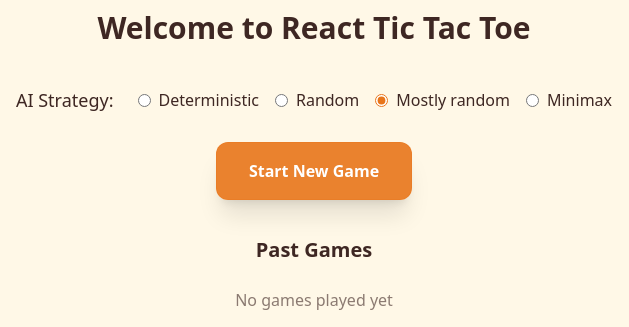
Test case: App › allows switching to deterministic strategy via radio
The width and height of the screenshot is (629, 327).
Click the radio button with test id "strategy-deterministic". click: (144, 100)
box: x1=138 y1=94 x2=150 y2=106
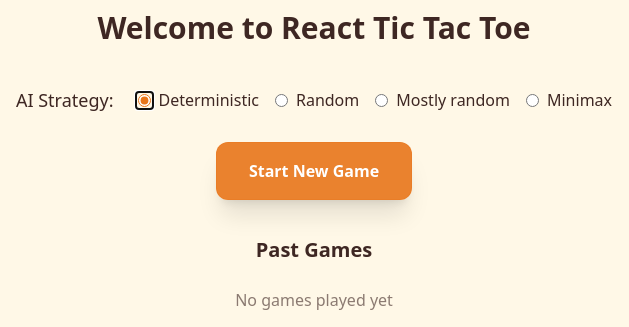
Expected: the radio button with test id "strategy-deterministic" is checked, x1=138 y1=94 x2=150 y2=106
Expected: the radio button with test id "strategy-mostly-random" is not checked, x1=375 y1=94 x2=388 y2=106
